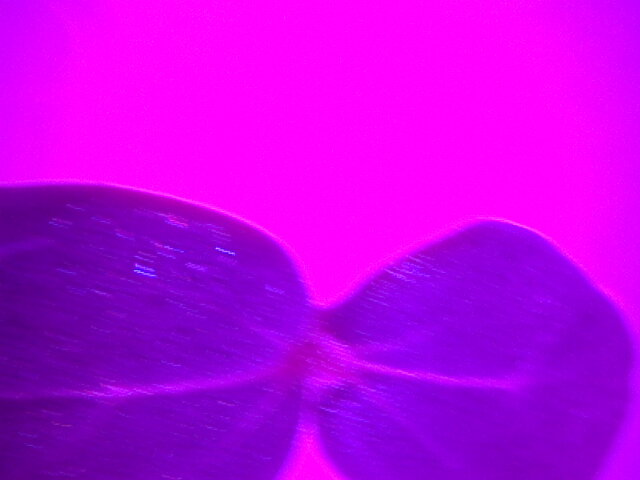seedling: (13, 187, 581, 480)
